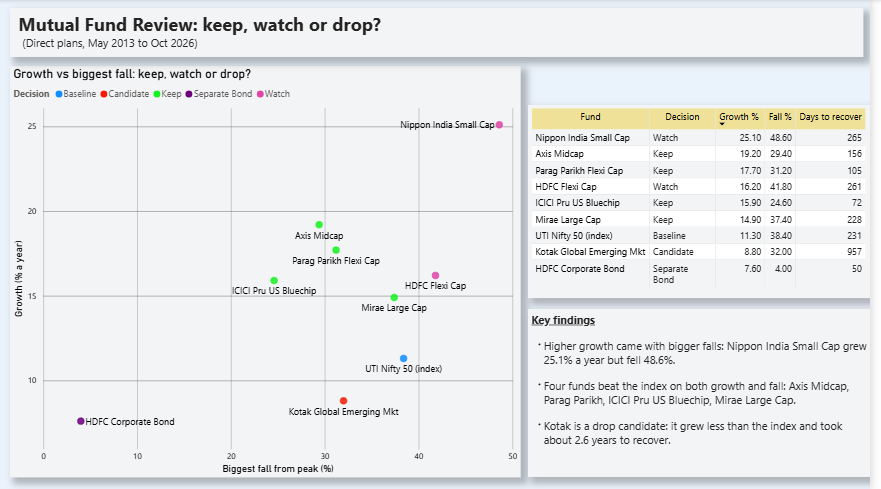

What the dashboard file says about the page in this screenshot:
{"tool":"powerbi","page":{"name":"Page 1","canvas":[1280,720],"ordinal":0},"visuals":[{"type":"scatterChart","title":"Growth vs biggest fall: keep, watch or drop?","fields":{"Category":["Fund Table.Fund"],"X":["Fund Table.Biggest fall from peak (%)"],"Y":["Fund Table.Growth: CAGR (% a year)"],"Series":["Fund Table.My decision (fill in)"]},"box":[14.7,98.4,750.9,605.4],"z":0},{"type":"tableEx","fields":{"Values":["Fund Table.Fund","Fund Table.My decision (fill in)","Fund Table.Growth: CAGR (% a year)","Fund Table.Biggest fall from peak (%)","Fund Table.Days to recover (from bottom)"]},"box":[776.6,156.2,503.1,284.4],"z":1000},{"type":"textbox","box":[14.7,13.2,1254.9,72],"z":2000},{"type":"textbox","box":[776.6,456.2,503.1,246.9],"z":2001}]}

Visuals, with their boxes in screenshot pixels (x1, y1, x2, y2), scaled from the page's 1280x720 canvas onto the 881x489 screenshot:
"Growth vs biggest fall: keep, watch or drop?" scatterChart: <bbox>10, 67, 527, 478</bbox>
tableEx - Fund Table.Fund x Fund Table.My decision (fill in): <bbox>535, 106, 880, 299</bbox>
textbox: <bbox>10, 9, 874, 58</bbox>
textbox: <bbox>535, 310, 880, 478</bbox>
